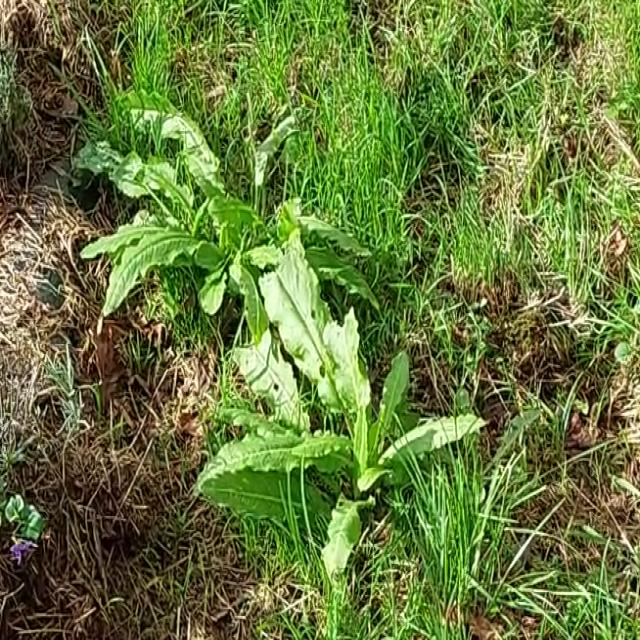organic waste: (58, 83, 363, 370), (191, 248, 452, 565)
